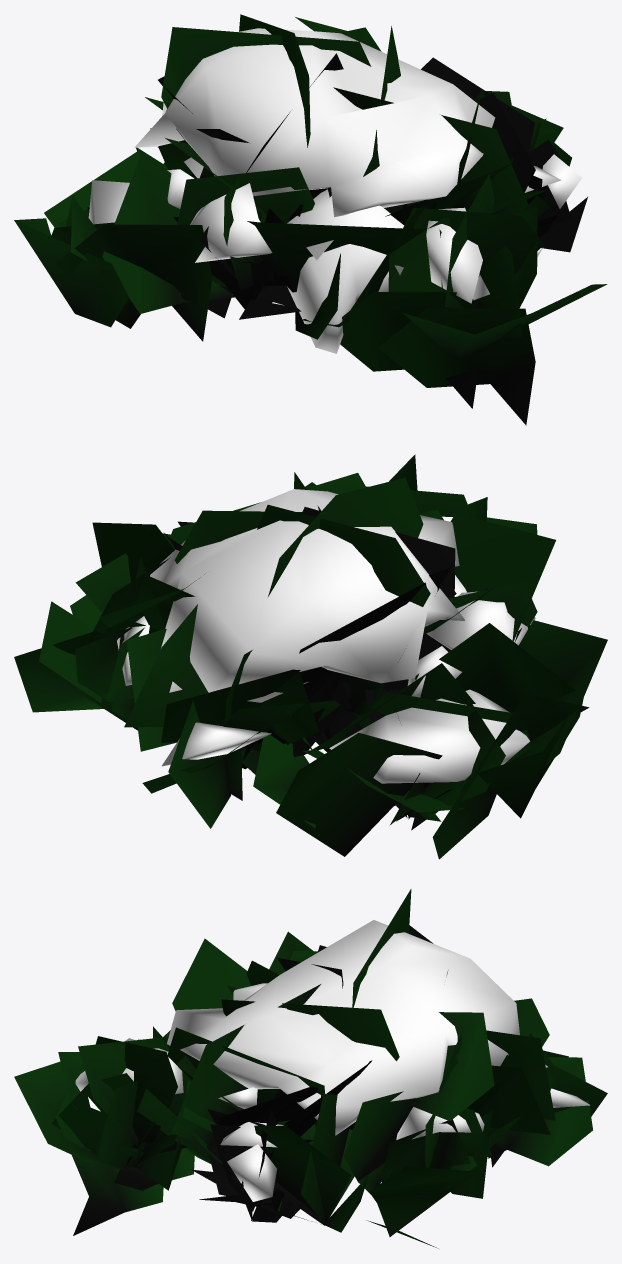
Rendered from SnowBushClumpARHE_LOD2.fbx.
The picture shows the model from 3 angles, top to bottom: view 1: azimuth 30°, elevation 25°; view 2: azimuth 150°, elevation 25°; view 3: azimuth 270°, elevation 25°; orthographic projection. The views are drawn at different scales.
Visible parts, largest first — view 1: SnowBushClumpARHE_LOD2; view 2: SnowBushClumpARHE_LOD2; view 3: SnowBushClumpARHE_LOD2.
Boxes of the visible parts, box(x1,y1,x2,y2) form: SnowBushClumpARHE_LOD2: box(14, 14, 607, 425); SnowBushClumpARHE_LOD2: box(14, 454, 607, 859); SnowBushClumpARHE_LOD2: box(14, 889, 607, 1248).
Size of the model in its own units: 3.77 by 2.19 by 4.3.
